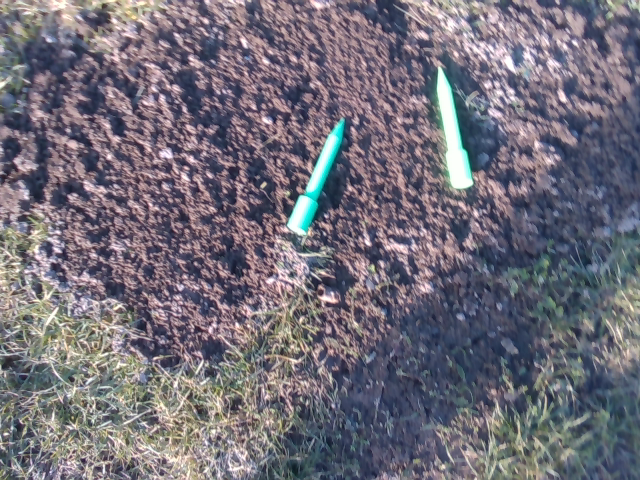Probe: (281, 118, 349, 240), (432, 61, 478, 197)
